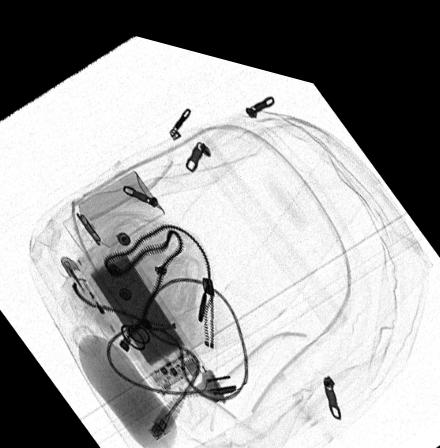Lighter: (60, 248, 140, 351)
Powerbank: (77, 235, 211, 390)
Sprayer: (62, 161, 167, 250)
